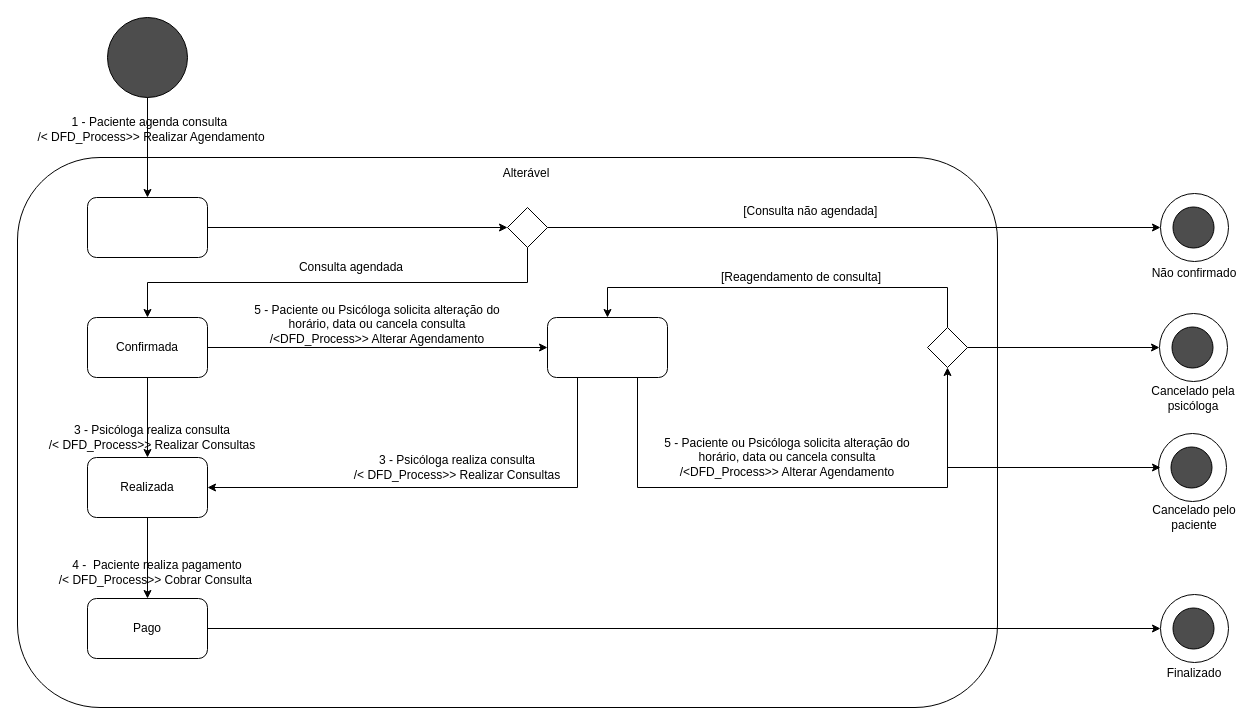
Image size: 1259x725. Some labels were removed from this diagram. The centre of each missing label's shape, as x and y in pixels:
"Consulta alterada" belongs at point (607, 347).
"Solicitado" belongs at point (147, 227).
